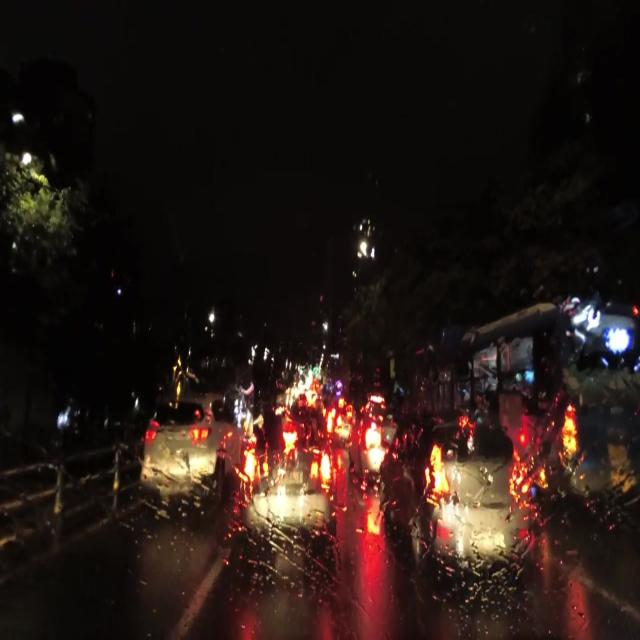Car: (378, 421, 531, 589), (238, 405, 331, 547), (139, 399, 237, 510), (350, 403, 390, 465)
